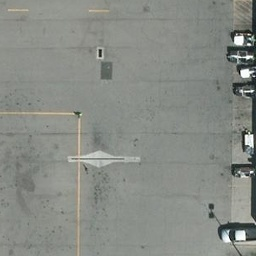car: (220, 225, 256, 245)
